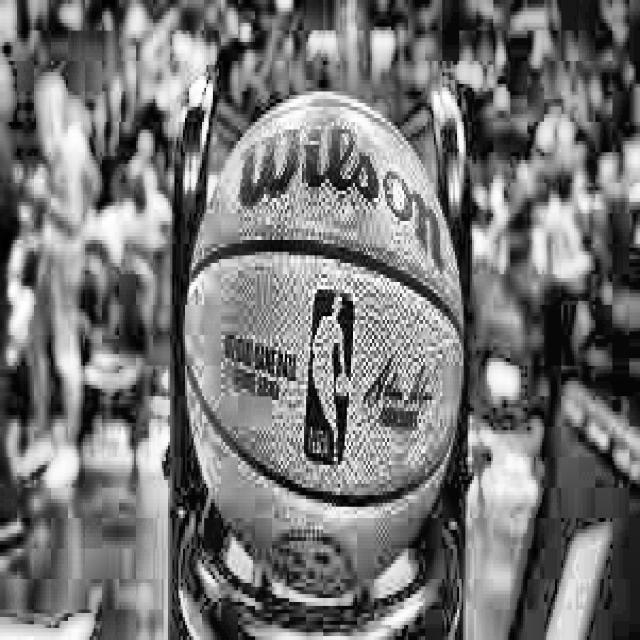Basketball: (185, 91, 466, 592)
